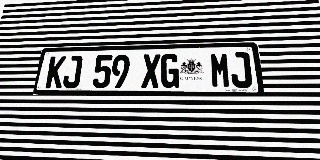5: (92, 55, 113, 88)
9: (110, 54, 130, 88)
G: (160, 53, 179, 88)
J: (229, 52, 253, 88), (62, 56, 83, 88)
K: (45, 56, 66, 88)
M: (210, 52, 231, 88)
X: (141, 54, 160, 88)
